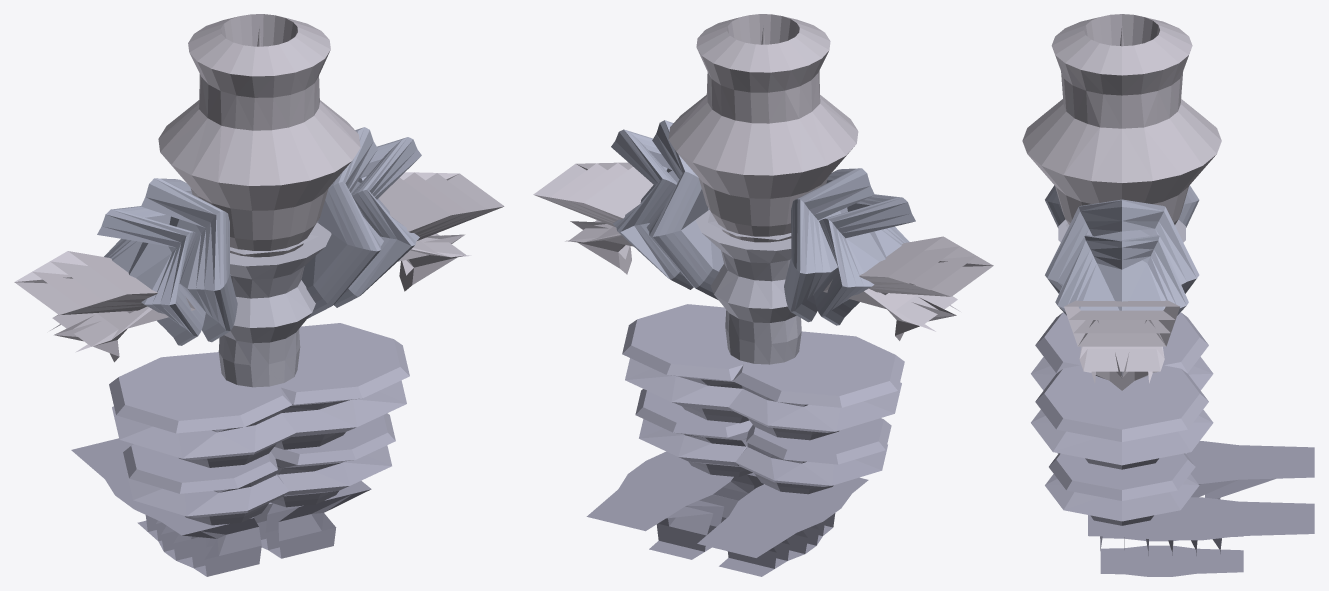
Rendered from e9432b9a-eb0c-4ffb-851d-d6f8d3eba90c.glb.
3 renders of one model, left to right at view 1: azimuth 30°, elevation 25°; view 2: azimuth 150°, elevation 25°; view 3: azimuth 270°, elevation 25°, orthographic. The views are drawn at different scales.
Parts seen in each view (by area): view 1: Head, Leg_L_Upper, Leg_R_Upper, Torso, Hand_L, Leg_L_Lower, Arm_L_Lower, Foot_L, Hand_R, Arm_L_Upper, Arm_R_Upper, Leg_R_Lower (+2 smaller); view 2: Head, Leg_L_Upper, Leg_R_Upper, Foot_R, Torso, Foot_L, Hand_L, Leg_L_Lower, Arm_L_Lower, Hand_R, Arm_L_Upper, Arm_R_Upper (+2 smaller); view 3: Head, Leg_R_Upper, Foot_R, Leg_R_Lower, Arm_R_Lower, Hand_R, Arm_R_Upper, Foot_L, Leg_L_Upper, Arm_L_Upper.
Part boxes in pixels (x1=…): Head: x1=158, y1=14, x2=360, y2=257; Leg_L_Upper: x1=109, y1=352, x2=296, y2=467; Leg_R_Upper: x1=274, y1=323, x2=409, y2=449; Torso: x1=218, y1=222, x2=331, y2=387; Hand_L: x1=14, y1=251, x2=195, y2=362; Leg_L_Lower: x1=123, y1=444, x2=289, y2=525; Arm_L_Lower: x1=97, y1=206, x2=205, y2=345; Foot_L: x1=71, y1=438, x2=261, y2=576; Hand_R: x1=365, y1=172, x2=504, y2=291; Arm_L_Upper: x1=141, y1=178, x2=237, y2=342; Arm_R_Upper: x1=301, y1=127, x2=383, y2=318; Leg_R_Lower: x1=270, y1=413, x2=395, y2=507; Head: x1=668, y1=14, x2=858, y2=242; Leg_L_Upper: x1=729, y1=331, x2=904, y2=440; Leg_R_Upper: x1=622, y1=304, x2=749, y2=423; Foot_R: x1=586, y1=451, x2=763, y2=559; Torso: x1=695, y1=210, x2=801, y2=364; Foot_L: x1=697, y1=477, x2=868, y2=576; Hand_L: x1=823, y1=236, x2=993, y2=340; Leg_L_Lower: x1=735, y1=418, x2=891, y2=494; Arm_L_Lower: x1=814, y1=194, x2=915, y2=325; Hand_R: x1=533, y1=162, x2=653, y2=274; Arm_L_Upper: x1=784, y1=168, x2=874, y2=322; Arm_R_Upper: x1=646, y1=120, x2=723, y2=299; Head: x1=1022, y1=14, x2=1221, y2=224; Leg_R_Upper: x1=1031, y1=365, x2=1213, y2=469; Foot_R: x1=1088, y1=497, x2=1314, y2=576; Leg_R_Lower: x1=1045, y1=453, x2=1199, y2=525; Arm_R_Lower: x1=1055, y1=235, x2=1188, y2=315; Hand_R: x1=1064, y1=300, x2=1179, y2=390; Arm_R_Upper: x1=1045, y1=199, x2=1199, y2=293; Foot_L: x1=1102, y1=441, x2=1314, y2=541; Leg_L_Upper: x1=1031, y1=312, x2=1213, y2=390; Arm_L_Upper: x1=1045, y1=185, x2=1199, y2=227.
Bounding box in the file's own units: 0.3121 × 0.3532 × 0.1807.
